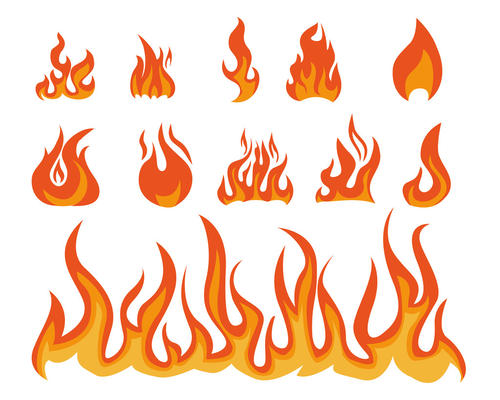fire: (61, 274, 461, 377), (217, 132, 300, 204), (134, 128, 202, 210), (390, 18, 450, 99), (289, 27, 347, 103), (30, 140, 100, 202), (34, 38, 104, 99), (124, 34, 180, 100), (317, 146, 377, 204), (409, 139, 450, 205), (225, 21, 258, 103)
